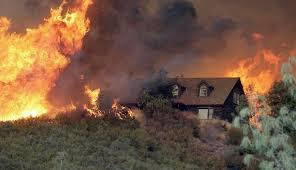fire: (0, 1, 132, 123), (224, 28, 293, 107)
smoke: (89, 0, 253, 102)
